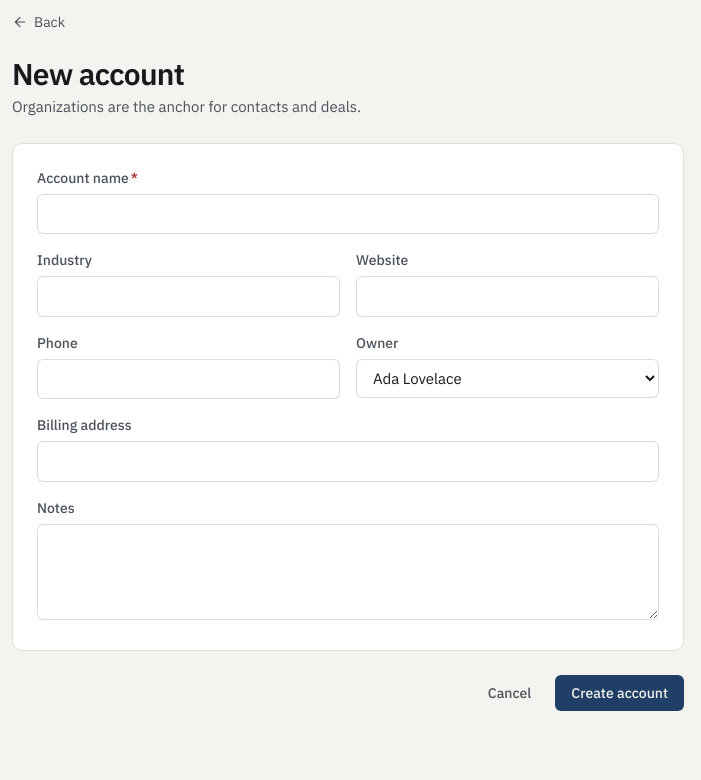
AccountFormPage › create mode › falls back to a generic message for non-Error save failures
Type "Globex" into the field labelled "Account name*". click: (348, 214)
box: [37,194,659,234]
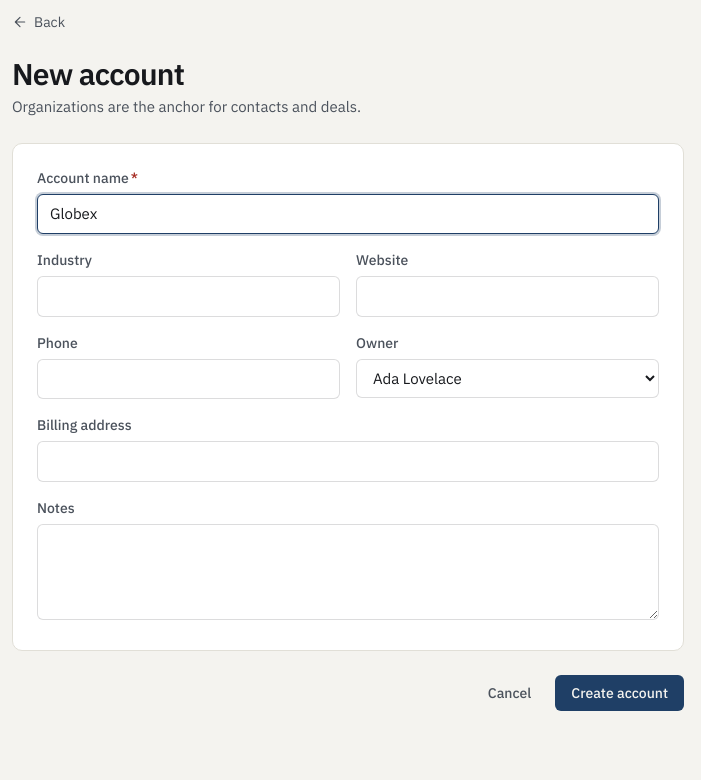
Click the button "Create account". click: (620, 692)
box: [555,674,684,710]
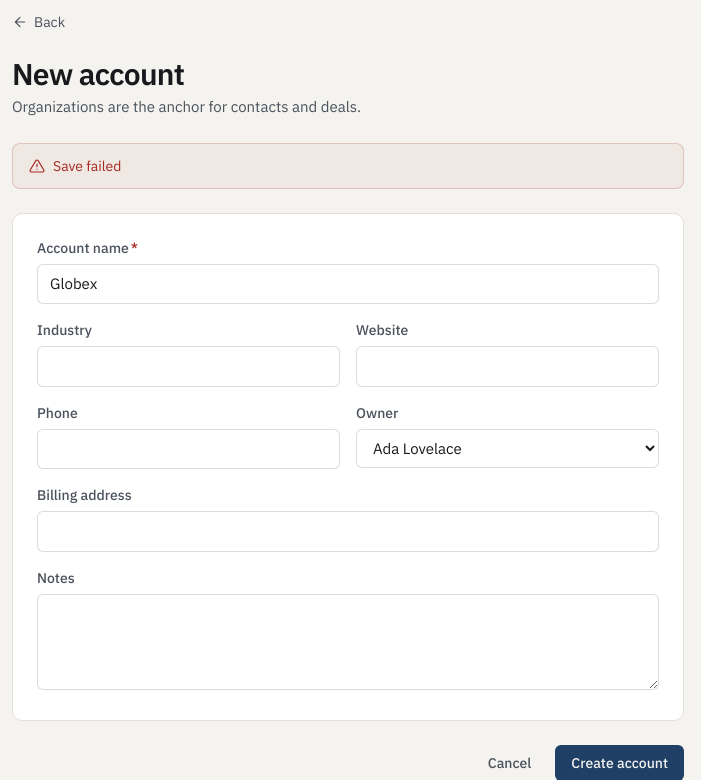
Result: the text "Save failed" is shown at [53,156,121,176]
